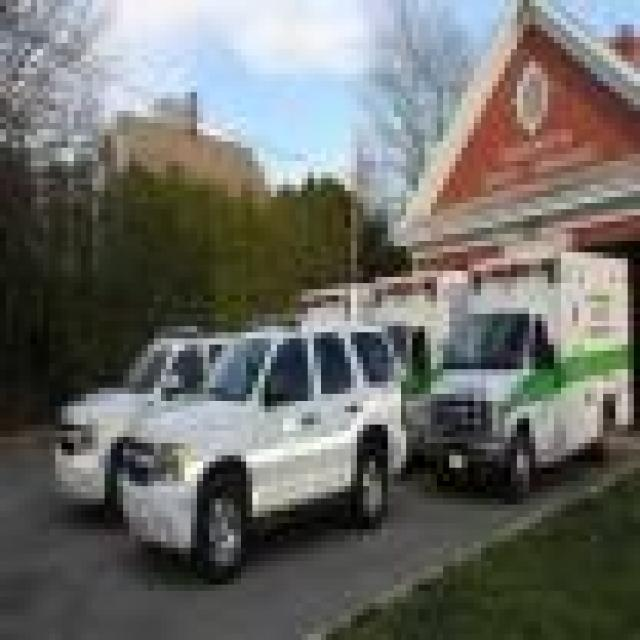emergency-vehicle: (412, 252, 634, 498), (284, 262, 504, 464), (366, 264, 545, 492)
